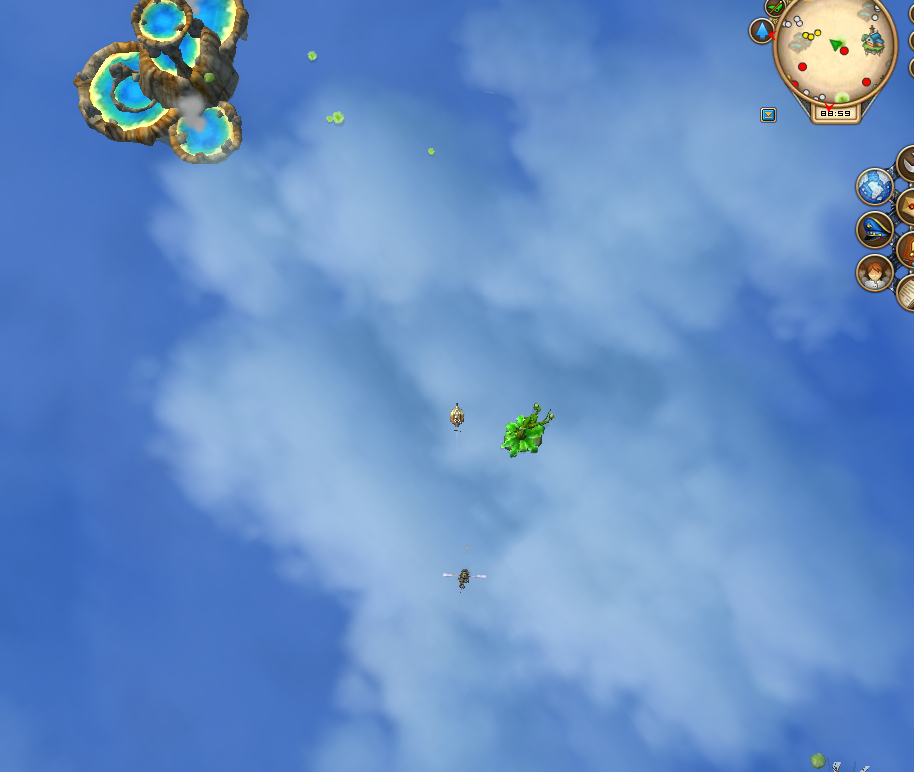dandelion-empty: (493, 401, 560, 462)
fluff: (331, 108, 345, 125), (305, 49, 320, 63), (424, 143, 437, 158), (324, 112, 334, 125)
